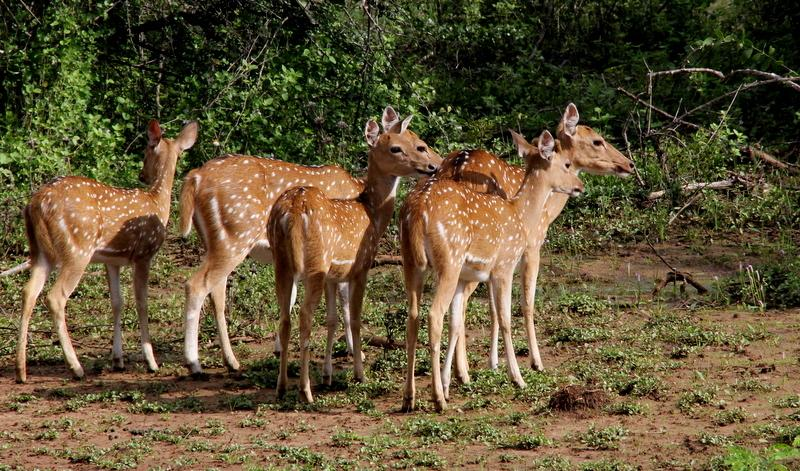Deer: (0, 120, 197, 382), (400, 130, 583, 410), (268, 115, 436, 401)
